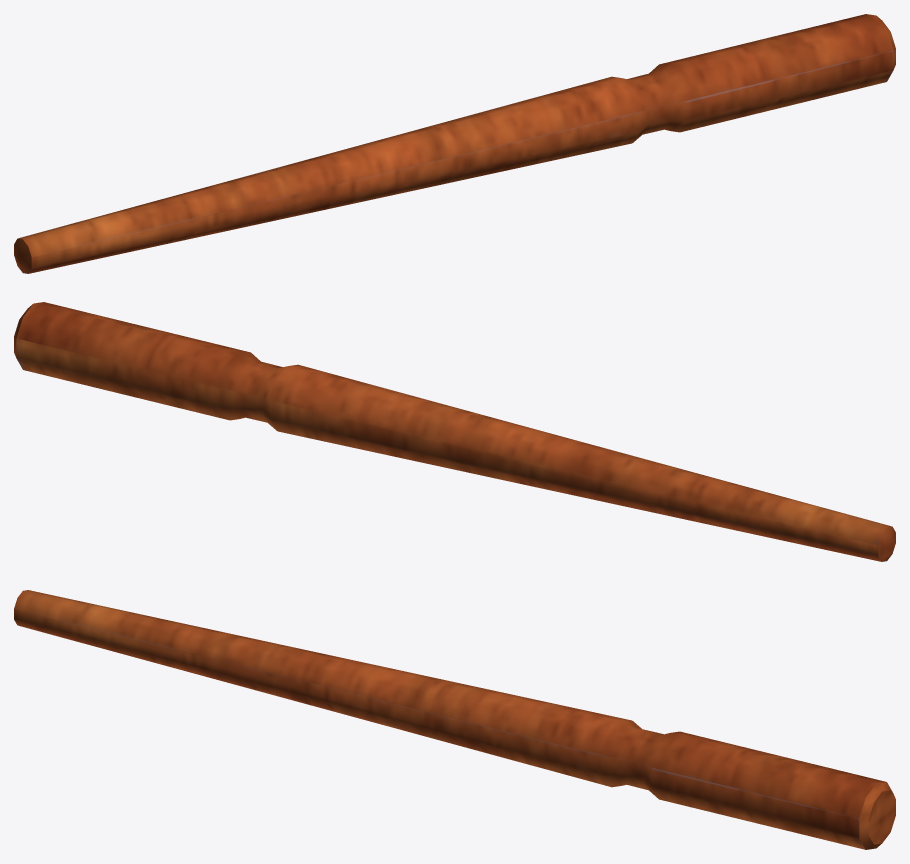
Rendered from thing_2.fbx.
The picture shows the model from 3 angles, top to bottom: view 1: azimuth 30°, elevation 25°; view 2: azimuth 150°, elevation 25°; view 3: azimuth 330°, elevation 25°; orthographic projection.
Visible parts, largest first — view 1: pCylinder15; view 2: pCylinder15; view 3: pCylinder15.
Part boxes in pixels (<box>): pCylinder15: <box>14,14,895,273</box>; pCylinder15: <box>14,302,895,561</box>; pCylinder15: <box>14,590,895,849</box>.
Size of the model in its own units: 73.99 by 5.31 by 5.05.
